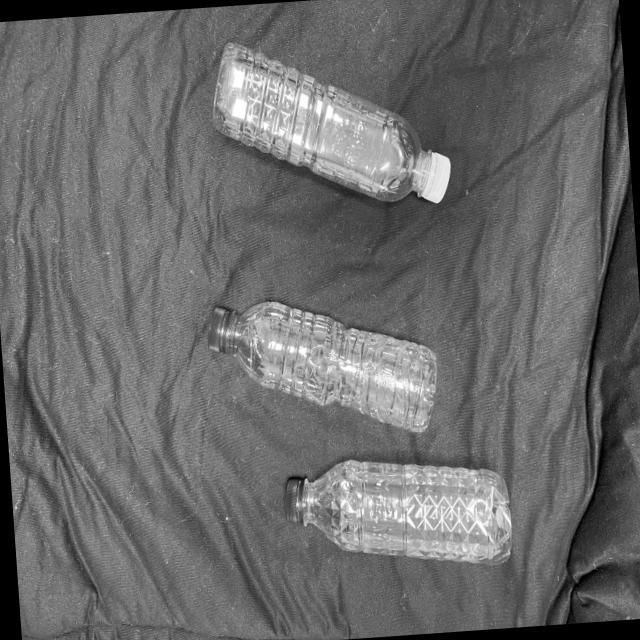good: (209, 30, 461, 227), (189, 275, 451, 448), (276, 455, 517, 571)
